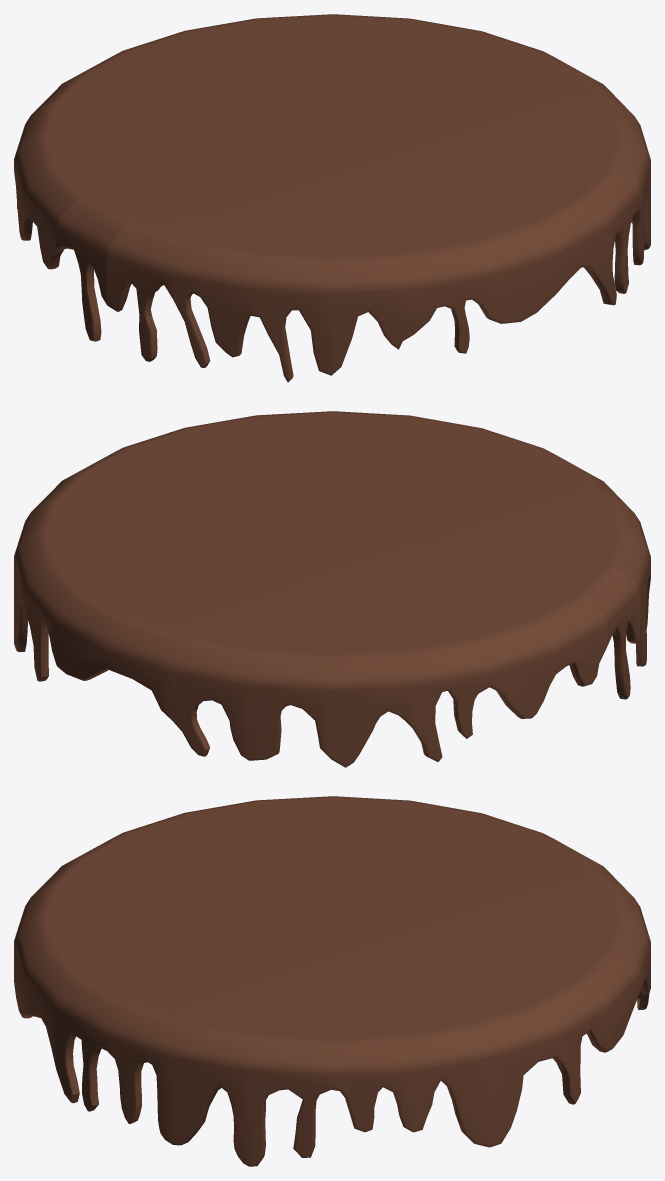
The model's file is Ara_katman_4.fbx.
3 views of the same model, one above another, from view 1: azimuth 30°, elevation 25°; view 2: azimuth 150°, elevation 25°; view 3: azimuth 270°, elevation 25° (orthographic).
Parts seen in each view (by area): view 1: p42; view 2: p42; view 3: p42.
Part boxes in pixels (x1,y1,x2,y2): p42: [14, 14, 650, 382]; p42: [14, 411, 650, 767]; p42: [14, 796, 650, 1166].
Size of the model in its own units: 2.06 by 0.4277 by 2.06.
